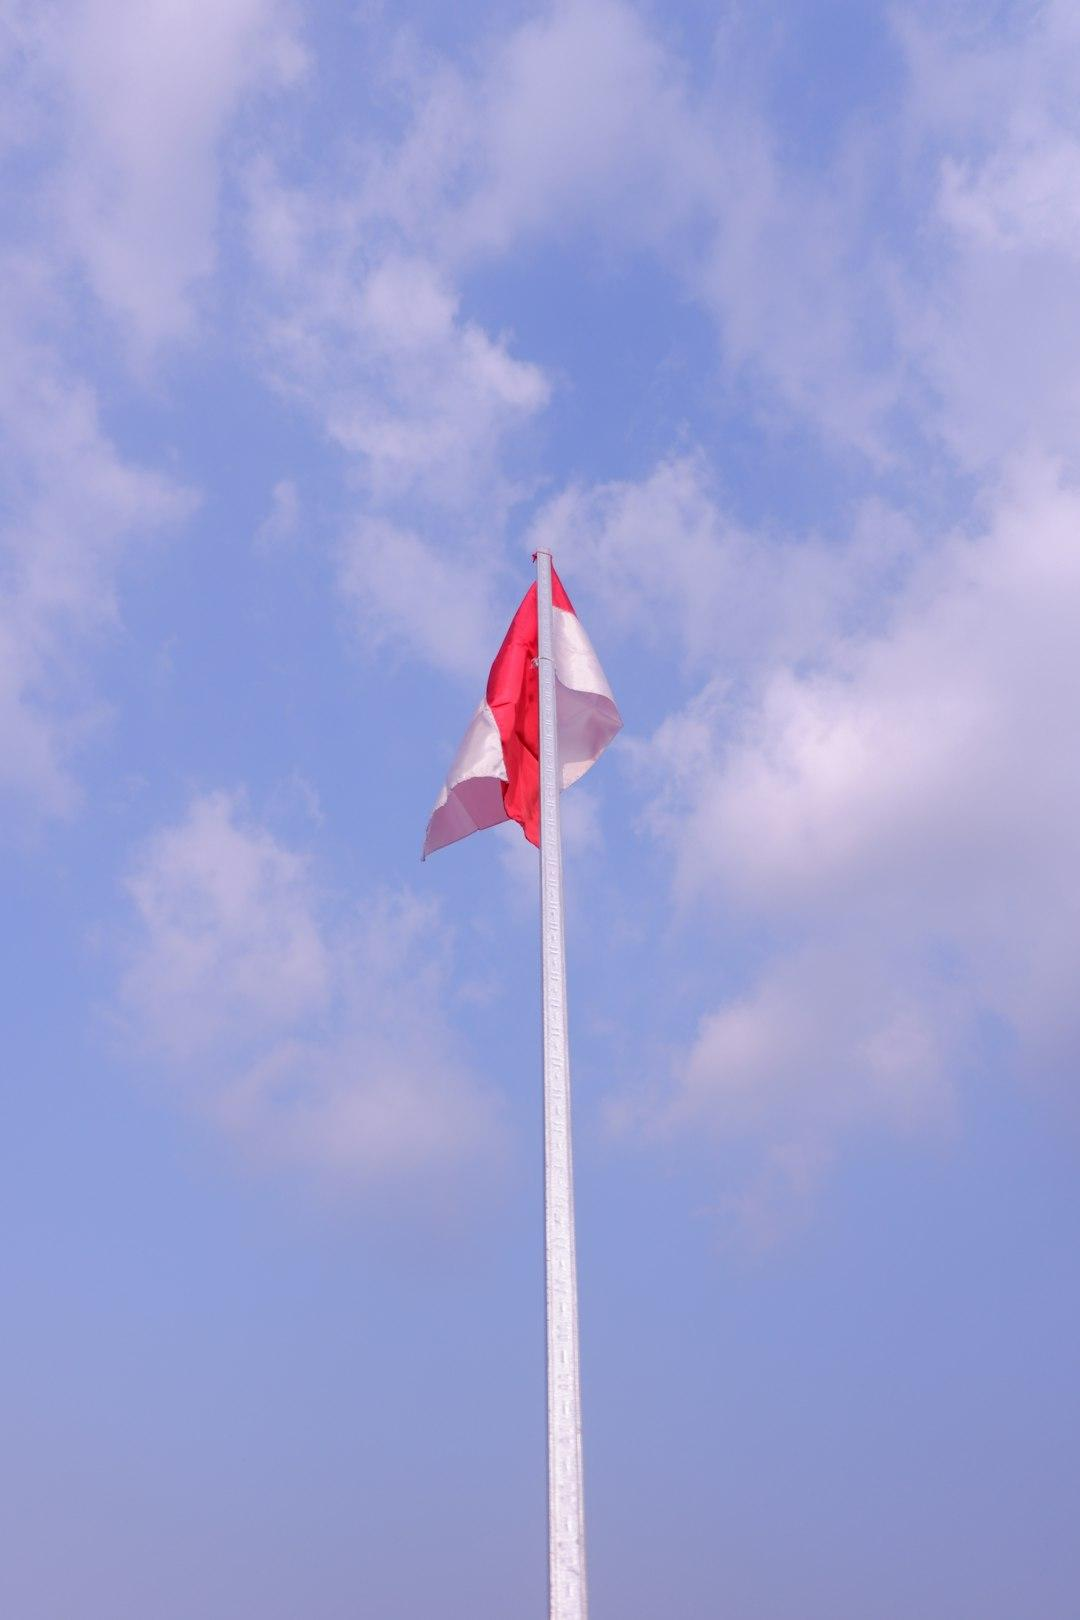Indonesia: (425, 564, 633, 862)
